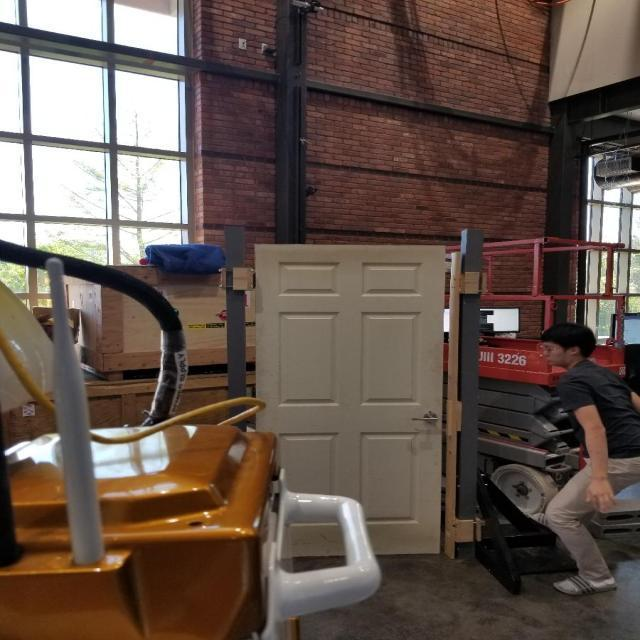door: (250, 240, 448, 557), (410, 409, 442, 427)
